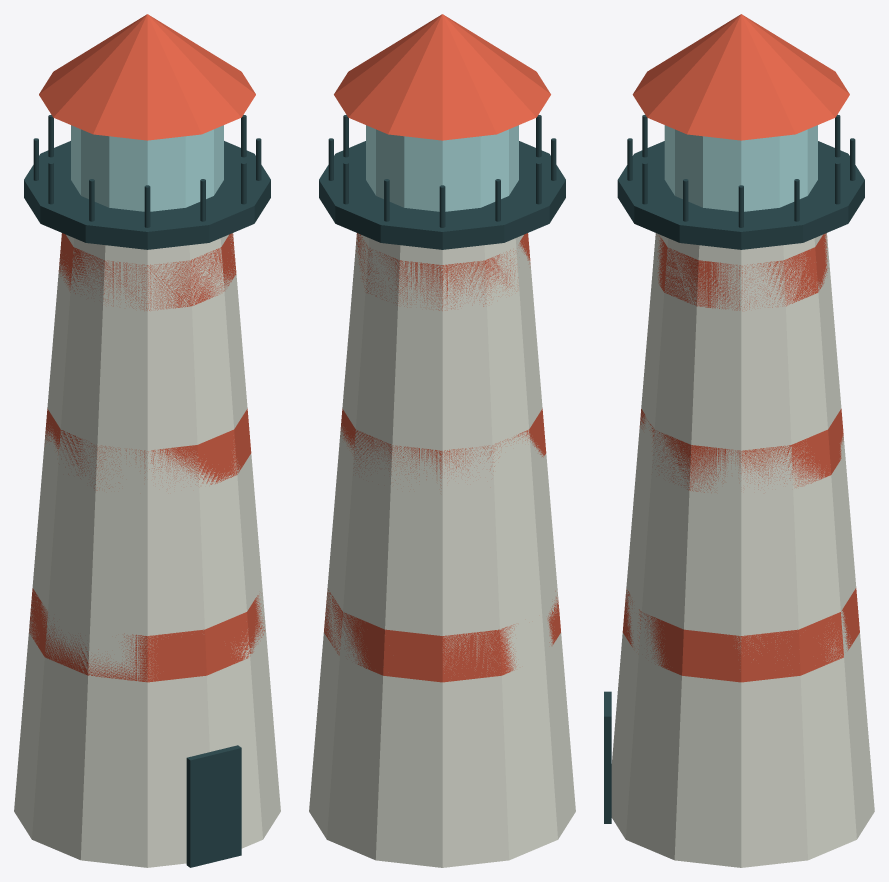
The model's file is lighthouse.glb.
3 renders of one model, left to right at view 1: azimuth 30°, elevation 25°; view 2: azimuth 150°, elevation 25°; view 3: azimuth 270°, elevation 25°, orthographic.
Parts seen in each view (by area): view 1: Lighthouse tower, Beacon roof, Beacon platform, Beacon lantern, Lighthouse stripe, Lighthouse door, Lighthouse stripe.002, Lighthouse stripe.001; view 2: Lighthouse tower, Beacon roof, Beacon platform, Beacon lantern, Lighthouse stripe, Lighthouse stripe.002, Lighthouse stripe.001; view 3: Lighthouse tower, Beacon roof, Beacon platform, Beacon lantern, Lighthouse stripe, Lighthouse stripe.002, Lighthouse stripe.001, Lighthouse door.
Part boxes in pixels (x1,y1,x2,y2): Lighthouse tower: [14, 233, 280, 867]; Beacon roof: [39, 14, 255, 140]; Beacon platform: [24, 141, 270, 249]; Beacon lantern: [71, 125, 223, 211]; Lighthouse stripe: [29, 588, 264, 682]; Lighthouse door: [186, 745, 241, 867]; Lighthouse stripe.002: [58, 233, 236, 310]; Lighthouse stripe.001: [44, 408, 251, 490]; Lighthouse tower: [309, 234, 575, 867]; Beacon roof: [334, 14, 550, 140]; Beacon platform: [319, 141, 565, 249]; Beacon lantern: [366, 125, 518, 211]; Lighthouse stripe: [324, 590, 560, 682]; Lighthouse stripe.002: [356, 233, 530, 310]; Lighthouse stripe.001: [340, 408, 546, 488]; Lighthouse tower: [611, 233, 874, 867]; Beacon roof: [632, 14, 849, 140]; Beacon platform: [617, 141, 864, 249]; Beacon lantern: [664, 125, 817, 211]; Lighthouse stripe: [622, 588, 859, 682]; Lighthouse stripe.002: [656, 233, 828, 310]; Lighthouse stripe.001: [639, 408, 843, 492]; Lighthouse door: [604, 691, 611, 823].
Size of the model in its own units: 5.4 by 17.8 by 5.48.
